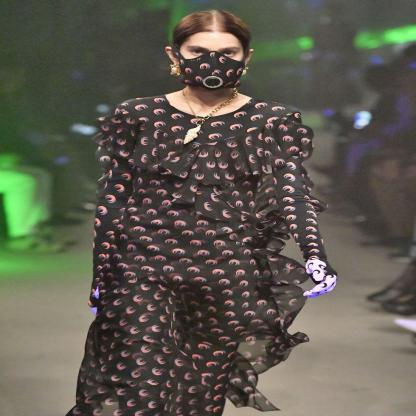Wearing_Mask: (173, 40, 244, 90)
